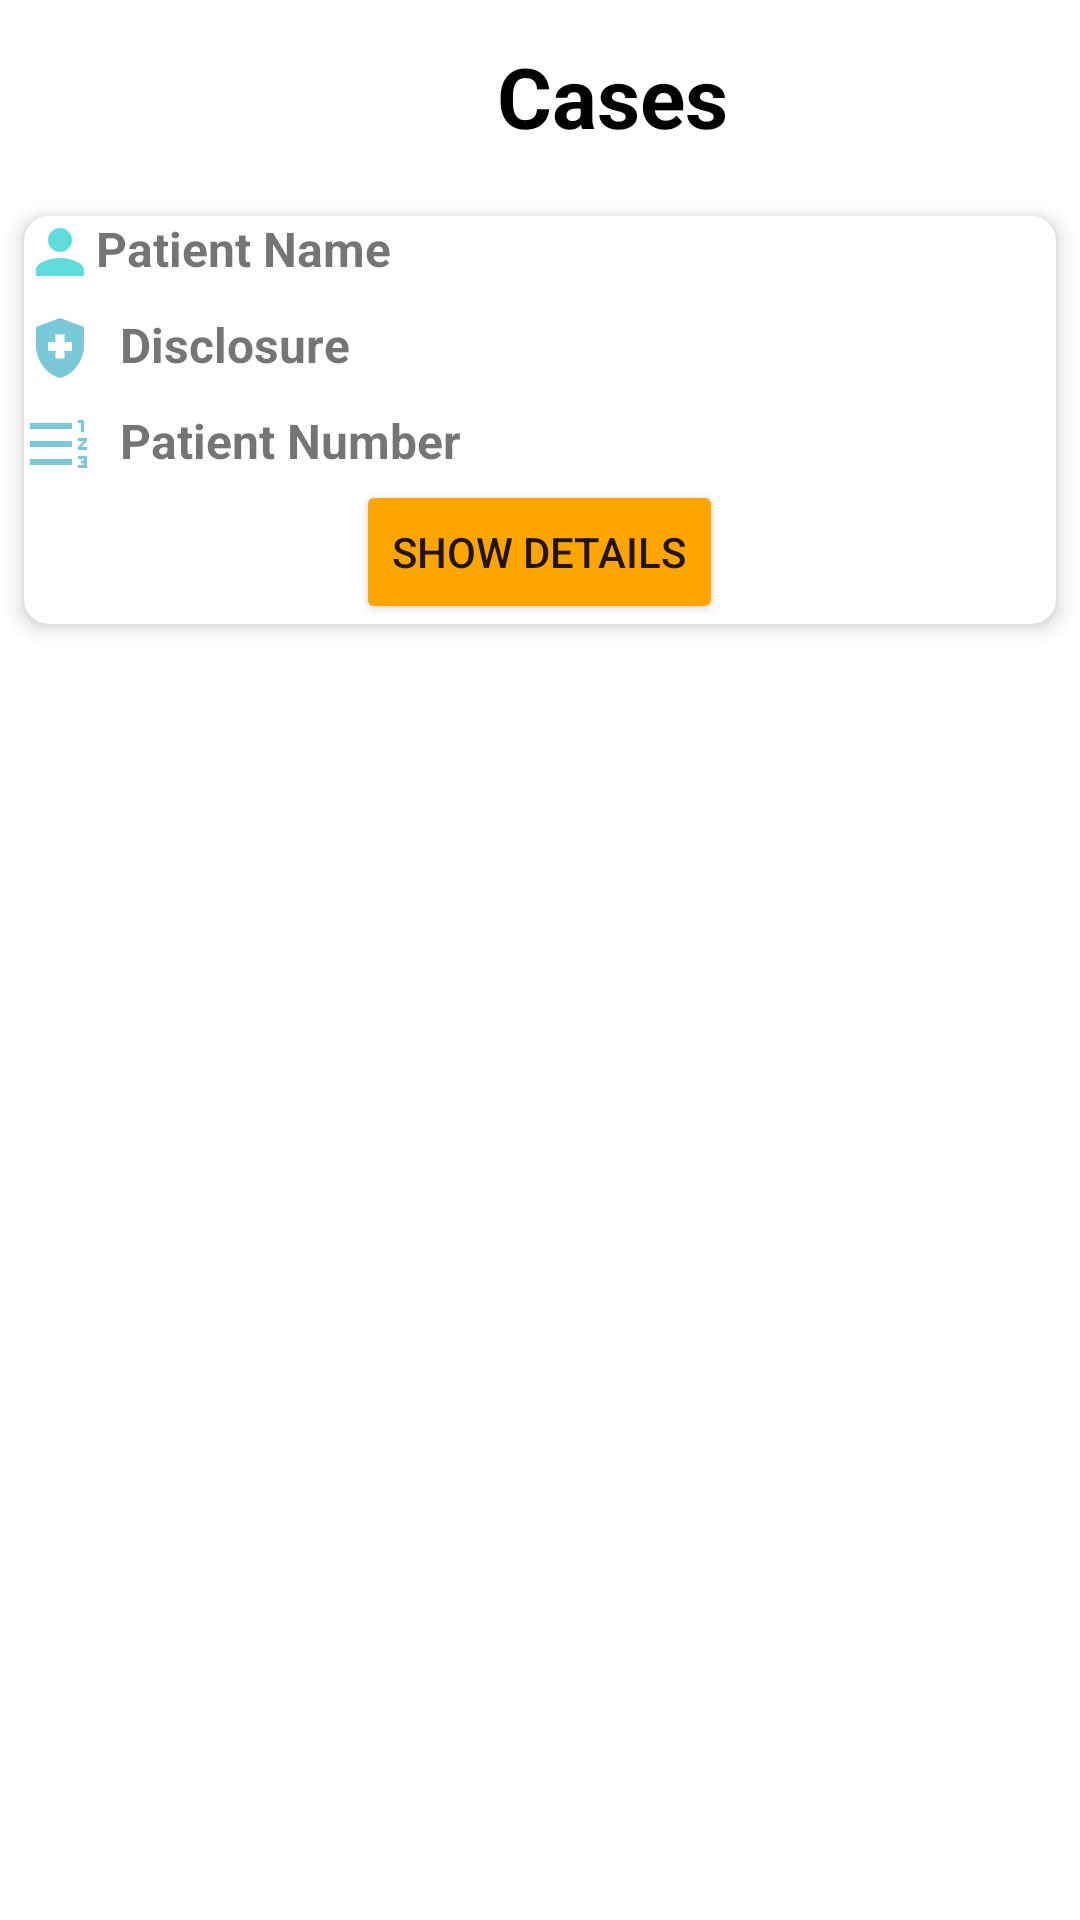

Point at icon controls on the screen. Image size 1080×1920, points as point (x, y).
format list numbered rtl: point (58, 444)
health and safety: point (60, 348)
